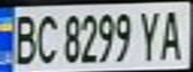2: (78, 9, 100, 64)
8: (60, 10, 81, 65)
9: (112, 9, 136, 63), (97, 9, 118, 63)
A: (157, 6, 187, 62)
B: (9, 10, 39, 66)
C: (33, 10, 60, 65)
Y: (136, 7, 163, 62)
